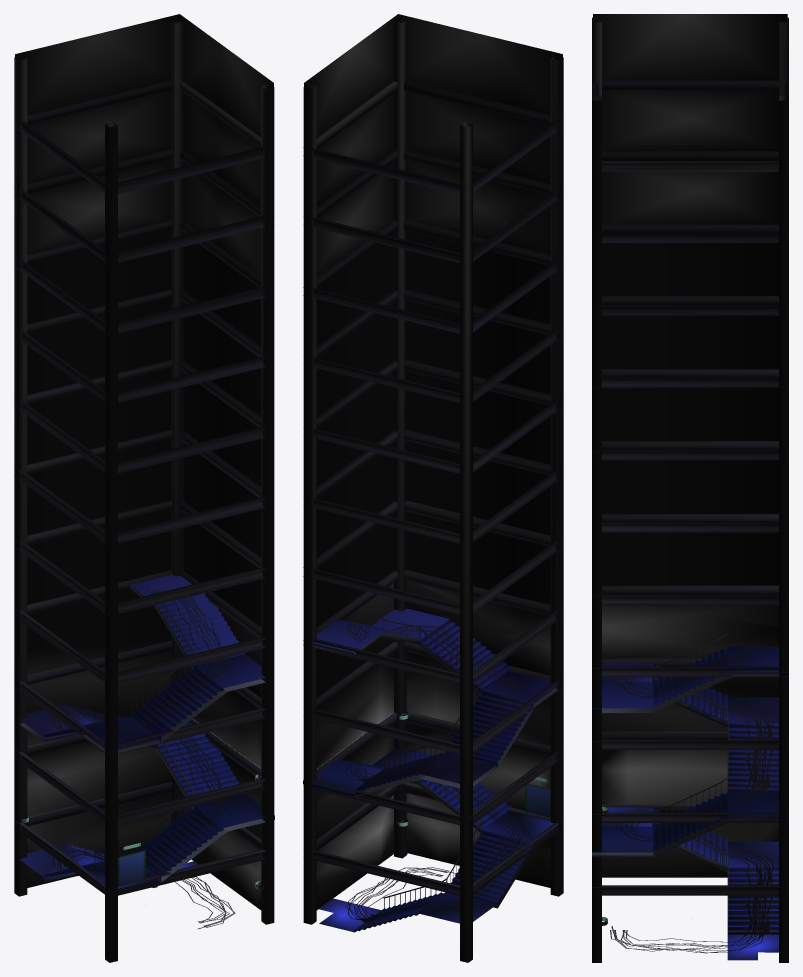
File: kaiden_c80.obj
3 renders of one model, left to right at view 1: azimuth 30°, elevation 25°; view 2: azimuth 150°, elevation 25°; view 3: azimuth 270°, elevation 25°, orthographic. The views are drawn at different scales.
Visible parts, largest first — view 1: mesh0_mesh0.004; view 2: mesh0_mesh0.004; view 3: mesh0_mesh0.004.
Boxes of the visible parts, x1,y1,x2,y2 form: mesh0_mesh0.004: (14,14,274,962); mesh0_mesh0.004: (303,14,563,962); mesh0_mesh0.004: (592,14,788,962).
Bounding box in the file's own units: 96.67 × 468 × 96.51.
6 materials, 6 textured.
